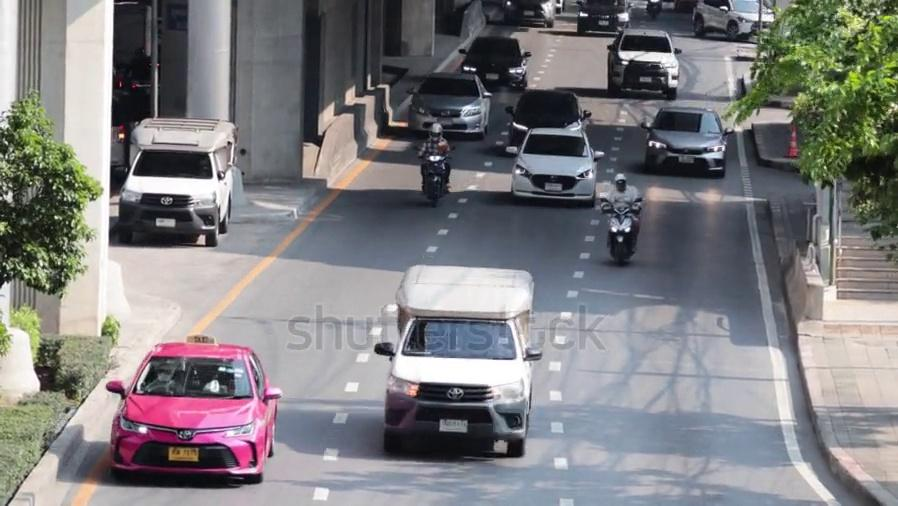rider: (599, 172, 643, 251), (417, 122, 451, 192)
with_helmate: (427, 123, 441, 141), (614, 172, 628, 189)
